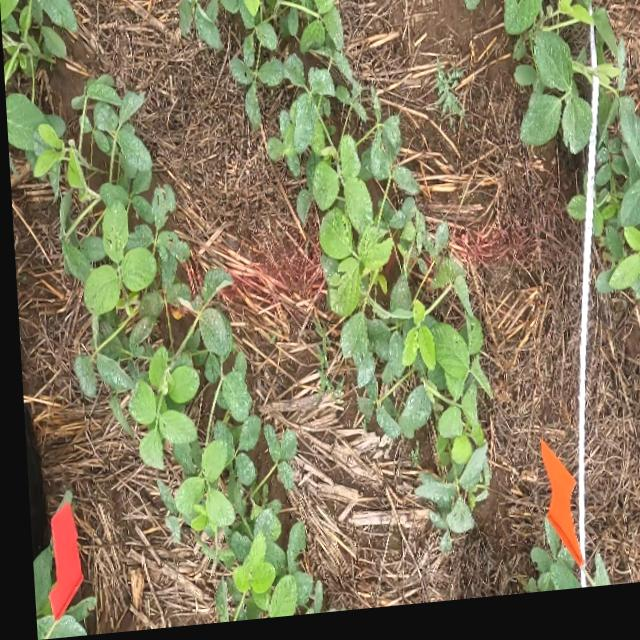grassy_weed: (310, 323, 340, 410), (432, 67, 463, 135)
soy_plant: (5, 77, 313, 625), (180, 0, 484, 549), (503, 0, 640, 310), (0, 0, 77, 84), (26, 546, 87, 639), (517, 531, 572, 603), (590, 567, 602, 597)
